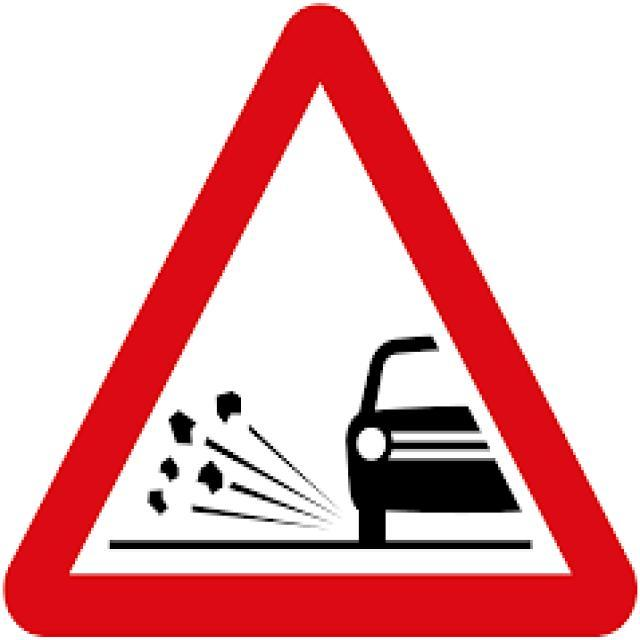loose gravel: (12, 13, 625, 624)
